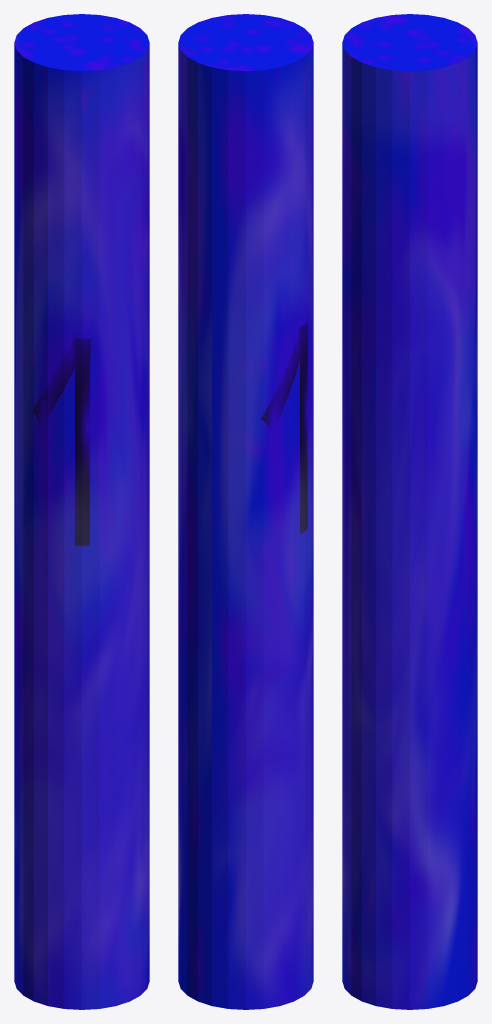
Rendered from Pillar.fbx.
3 renders of one model, left to right at view 1: azimuth 90°, elevation 25°; view 2: azimuth 150°, elevation 25°; view 3: azimuth 270°, elevation 25°, orthographic.
Visible parts, largest first — view 1: Pillar_1; view 2: Pillar_1; view 3: Pillar_1.
Boxes of the visible parts, box(x1,y1,x2,y2) form: Pillar_1: box(14, 14, 149, 1009); Pillar_1: box(178, 14, 313, 1009); Pillar_1: box(342, 14, 477, 1009).
Size of the model in its own units: 200 by 1531 by 200.
1 material, 1 textured.
